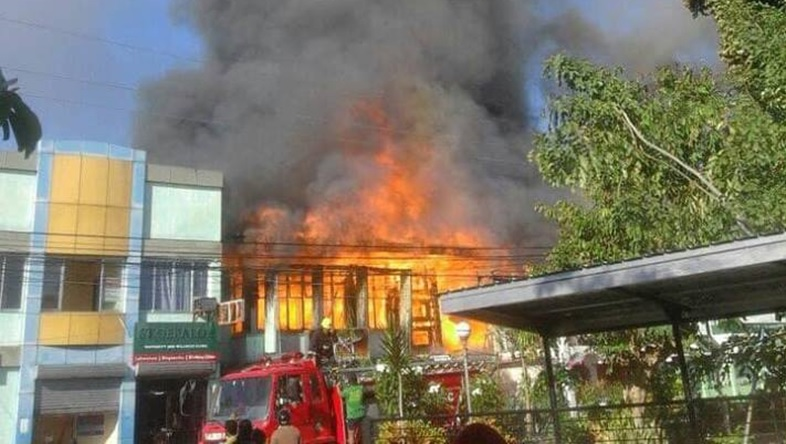fire: (234, 192, 504, 346)
smoke: (140, 8, 538, 185), (542, 4, 707, 64)
